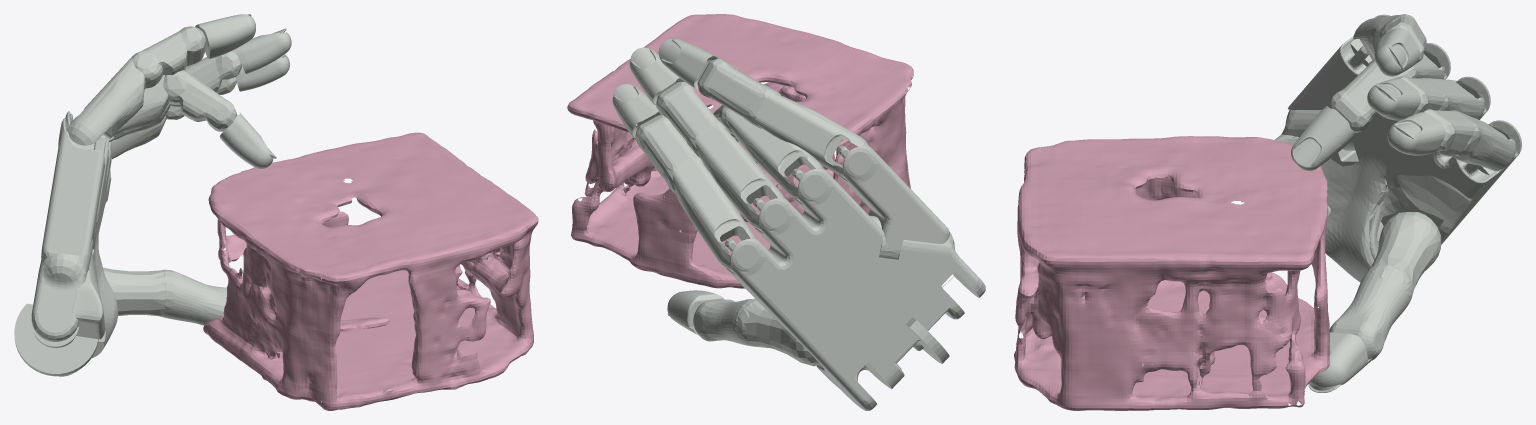
3 views of the same model, side by side, from view 1: azimuth 30°, elevation 25°; view 2: azimuth 150°, elevation 25°; view 3: azimuth 270°, elevation 25° (orthographic). The views are drawn at different scales.
Parts seen in each view (by area): view 1: world, hand_isaac_q; view 2: hand_isaac_q, world; view 3: world, hand_isaac_q.
Boxes of the visible parts, x1,y1,x2,y2 form: world: (203, 132, 538, 410); hand_isaac_q: (14, 14, 291, 376); hand_isaac_q: (612, 38, 985, 410); world: (567, 14, 913, 288); world: (1014, 136, 1330, 410); hand_isaac_q: (1274, 14, 1521, 392).
Bounding box in the file's own units: 0.215 × 0.1609 × 0.2112.
